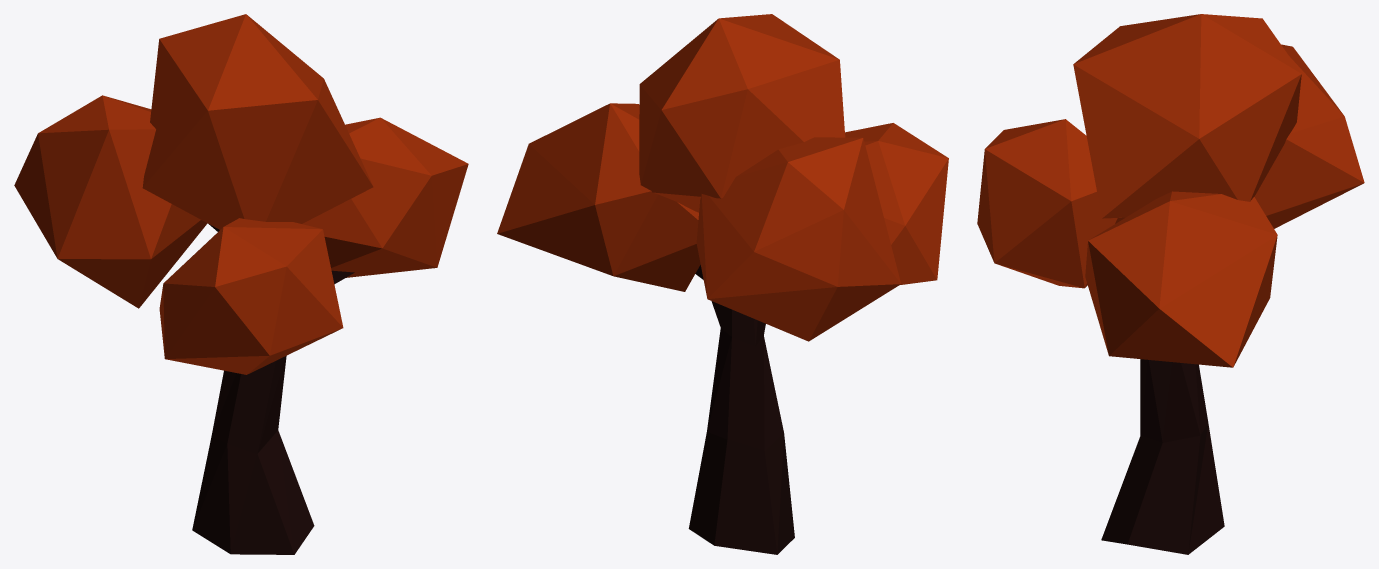
Rendered from M_WalnutTree1.FBX.
3 views of the same model, side by side, from view 1: azimuth 30°, elevation 25°; view 2: azimuth 150°, elevation 25°; view 3: azimuth 270°, elevation 25° (orthographic). The views are drawn at different scales.
Visible parts, largest first — view 1: GeoSphere026, GeoSphere028, GeoSphere029, Cylinder008, GeoSphere027; view 2: GeoSphere028, GeoSphere026, GeoSphere027, Cylinder008, GeoSphere029; view 3: GeoSphere026, GeoSphere027, GeoSphere029, Cylinder008, GeoSphere028.
Part boxes in pixels (x1,y1,x2,y2): GeoSphere026: [142, 14, 373, 229]; GeoSphere028: [14, 95, 207, 308]; GeoSphere029: [159, 218, 343, 374]; Cylinder008: [192, 224, 354, 554]; GeoSphere027: [302, 117, 468, 277]; GeoSphere028: [696, 137, 900, 341]; GeoSphere026: [639, 14, 845, 212]; GeoSphere027: [497, 103, 700, 291]; Cylinder008: [688, 265, 794, 554]; GeoSphere029: [845, 123, 948, 284]; GeoSphere026: [1073, 14, 1301, 218]; GeoSphere027: [1085, 191, 1277, 367]; GeoSphere029: [977, 119, 1124, 288]; Cylinder008: [1101, 359, 1224, 554]; GeoSphere028: [1254, 44, 1364, 228].
Bounding box in the file's own units: 306 × 388 × 257.
